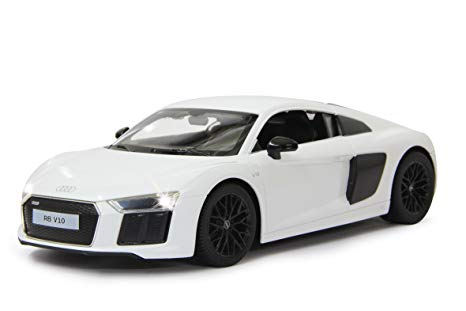audi: (15, 92, 440, 269)
